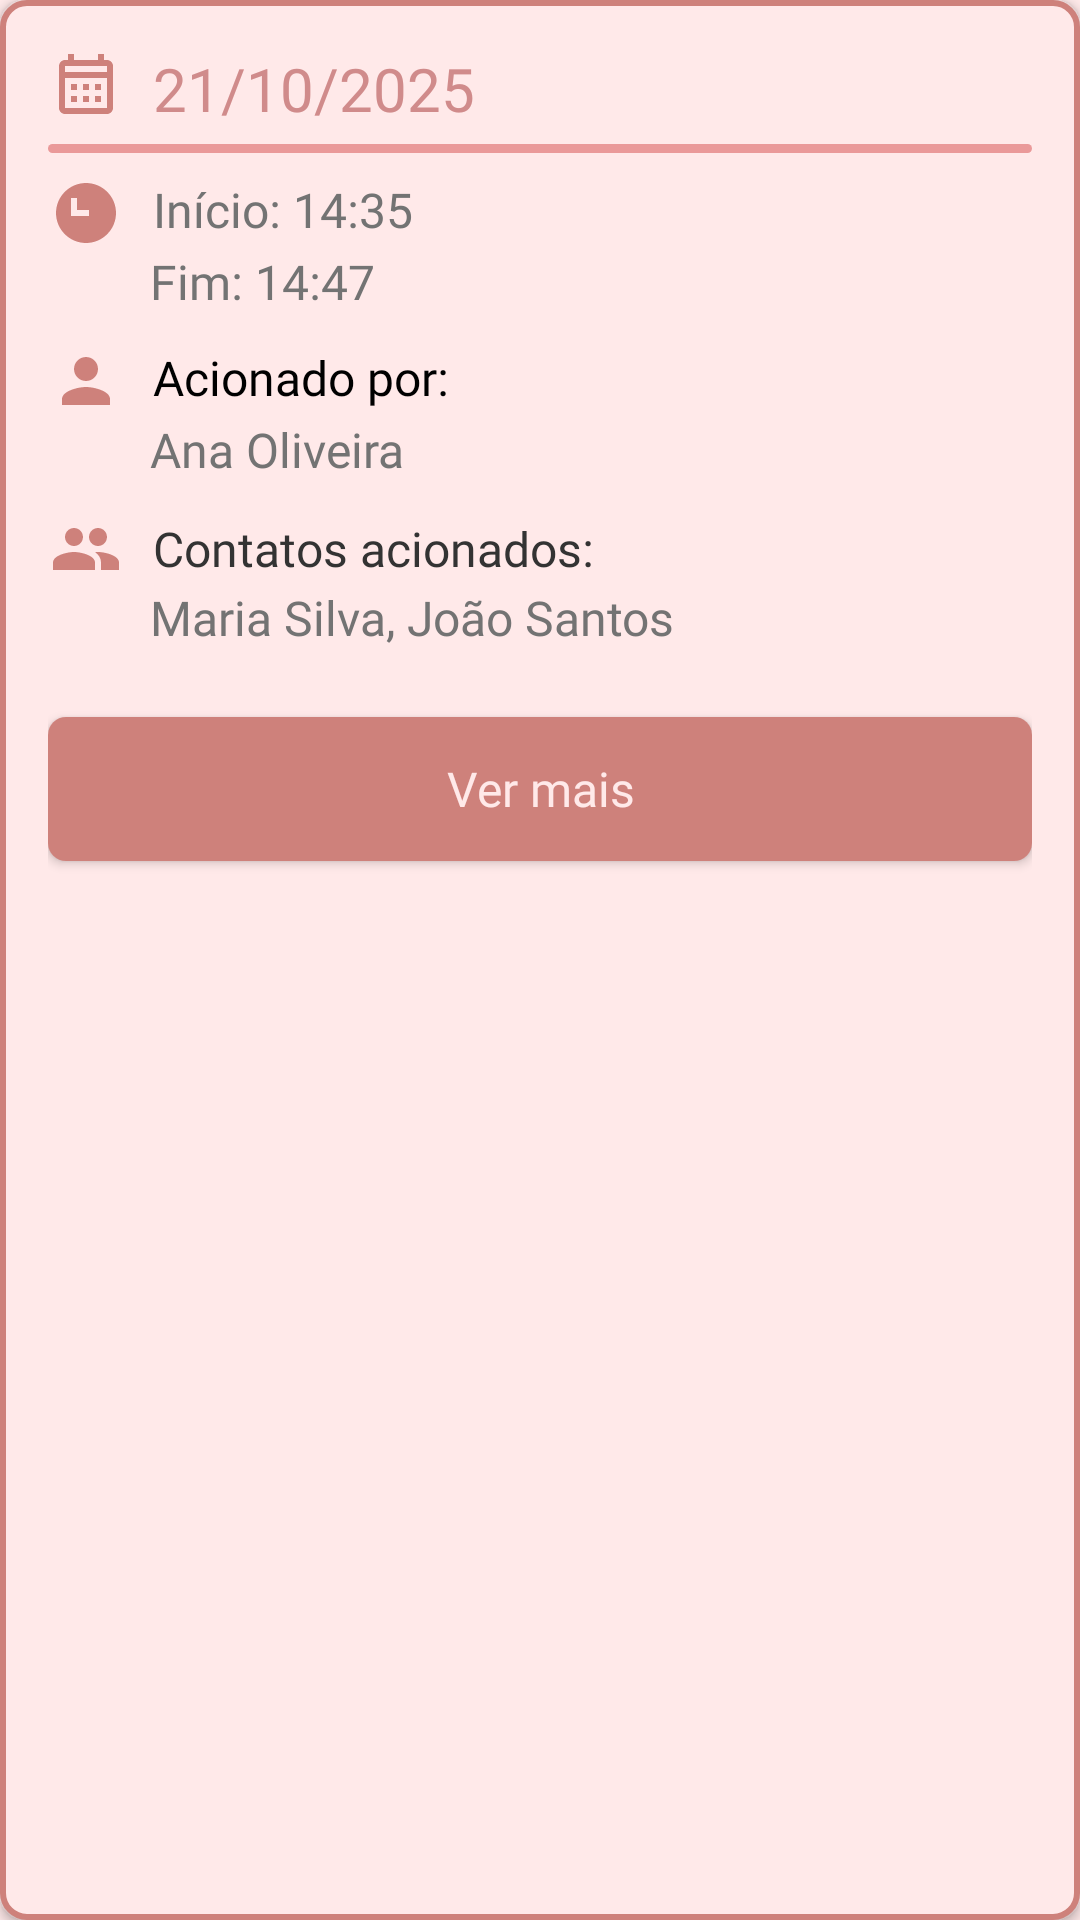

Where icons sit on this 1080 × 1920 app screen, as bbox=(x1, y1, x2, y2):
calendar month: bbox=(59, 54, 113, 114)
groups: bbox=(53, 528, 119, 570)
person: bbox=(62, 357, 110, 405)
watch later: bbox=(56, 183, 116, 243)
